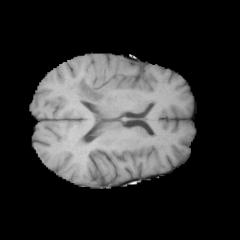glioma: (66, 54, 132, 104)
